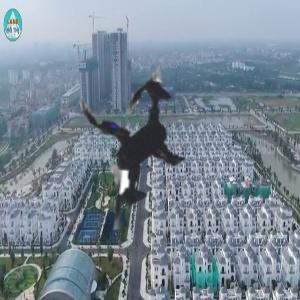drone: (2, 21, 261, 280)
